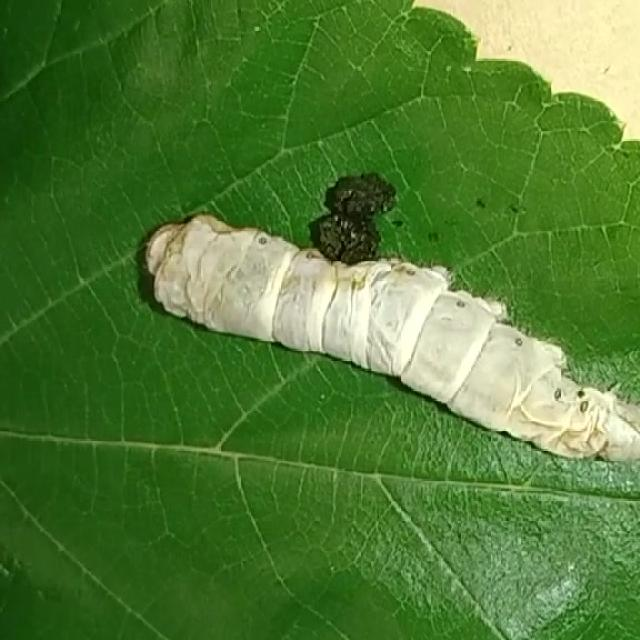Grasserie: (119, 129, 640, 505)
